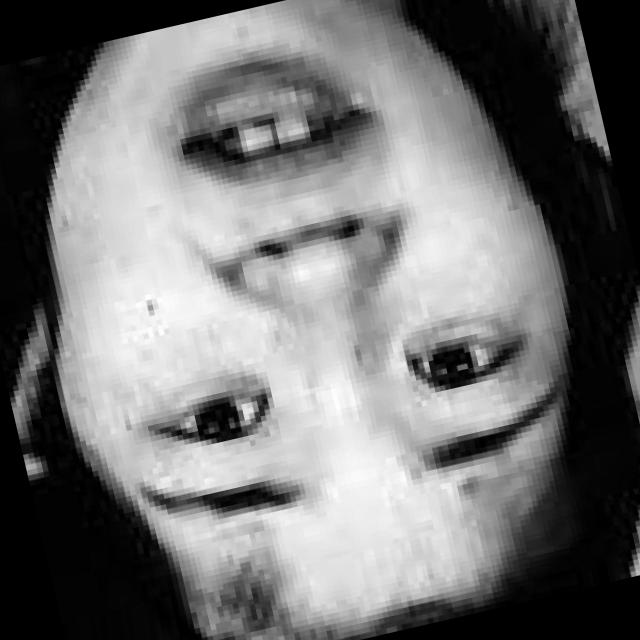fear: (6, 0, 603, 627)
